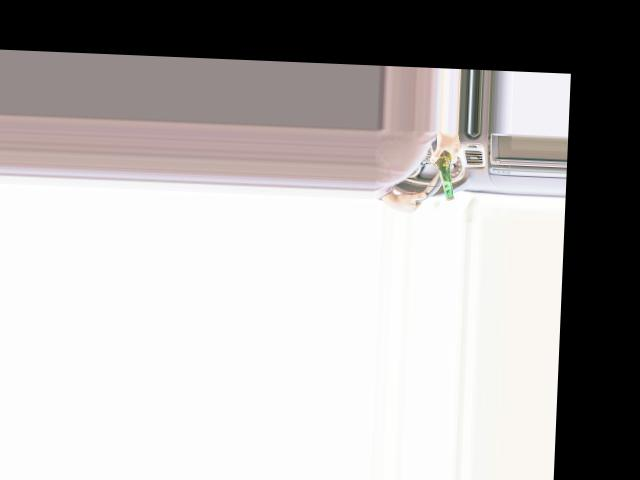beer: (426, 132, 457, 201)
